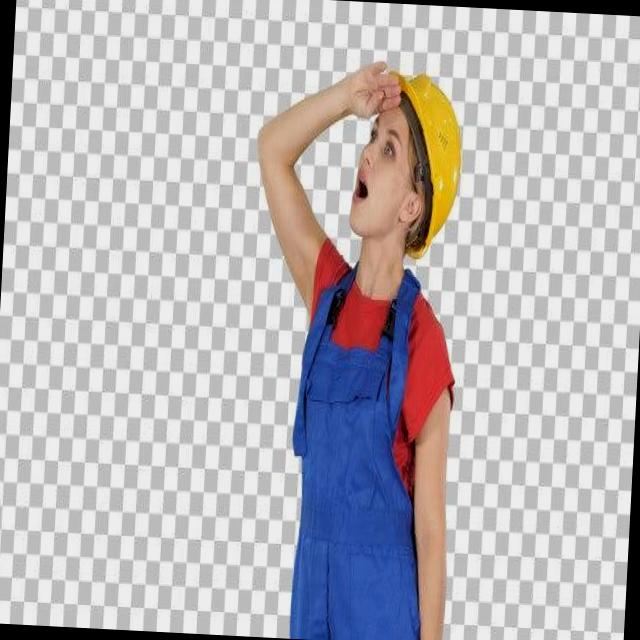helmet: (381, 64, 472, 242)
no-vest: (290, 252, 467, 586)
